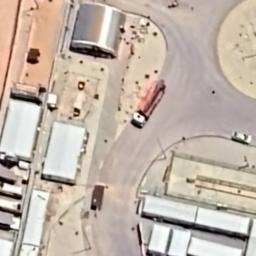others: (132, 79, 166, 128)
van: (232, 131, 252, 143)
